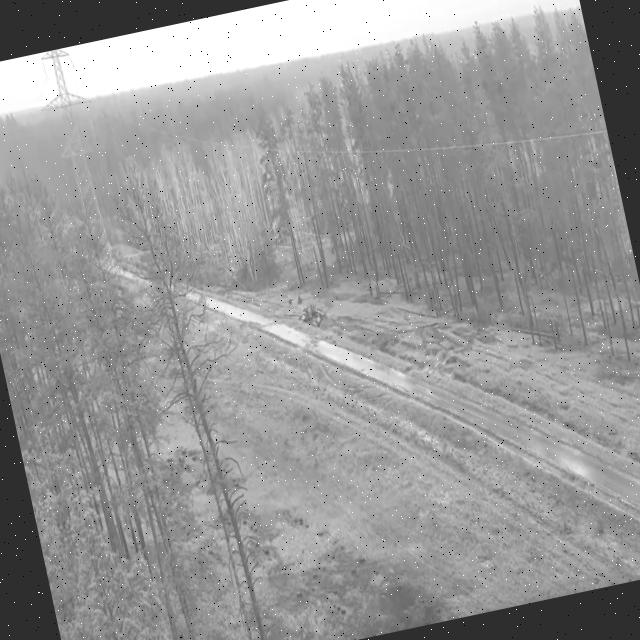MBT: (283, 301, 331, 338)
